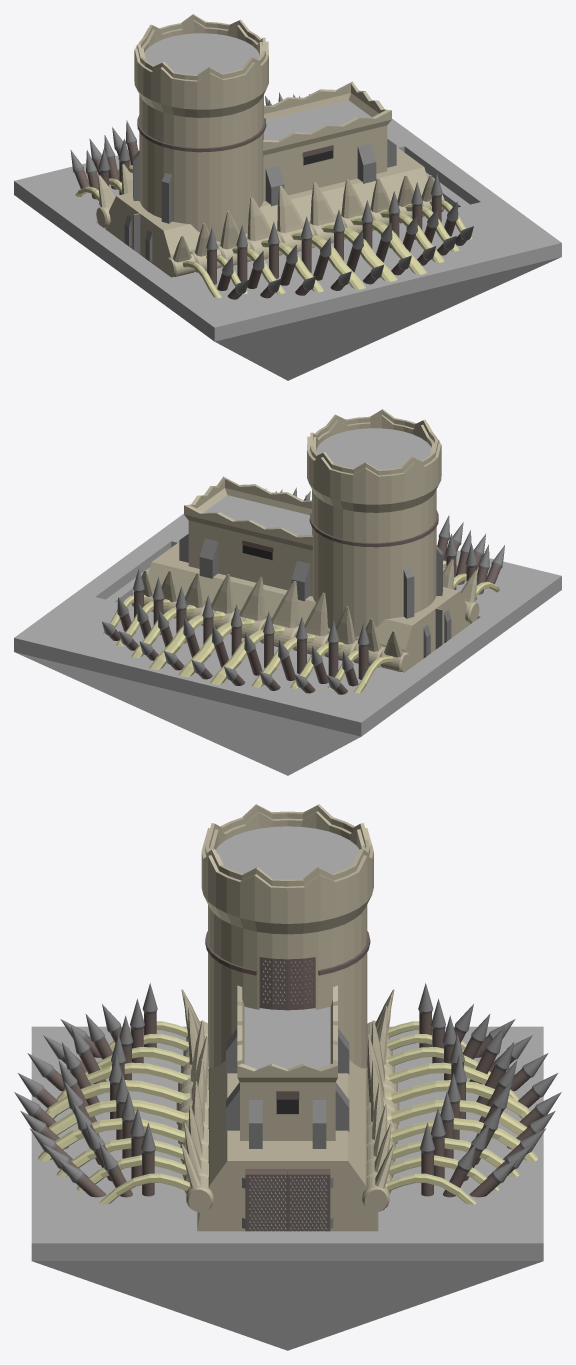
Rendered from Building Bunker T3.fbx.
The picture shows the model from 3 angles, top to bottom: view 1: azimuth 30°, elevation 25°; view 2: azimuth 150°, elevation 25°; view 3: azimuth 270°, elevation 25°; orthographic projection. The views are drawn at different scales.
Parts seen in each view (by area): view 1: Bunker T3; view 2: Bunker T3; view 3: Bunker T3.
Boxes of the visible parts, box(x1,y1,x2,y2) form: Bunker T3: box(14, 14, 561, 380); Bunker T3: box(14, 409, 561, 775); Bunker T3: box(14, 804, 561, 1350).
Bounding box in the file's own units: 1599 × 1587 × 1711.
